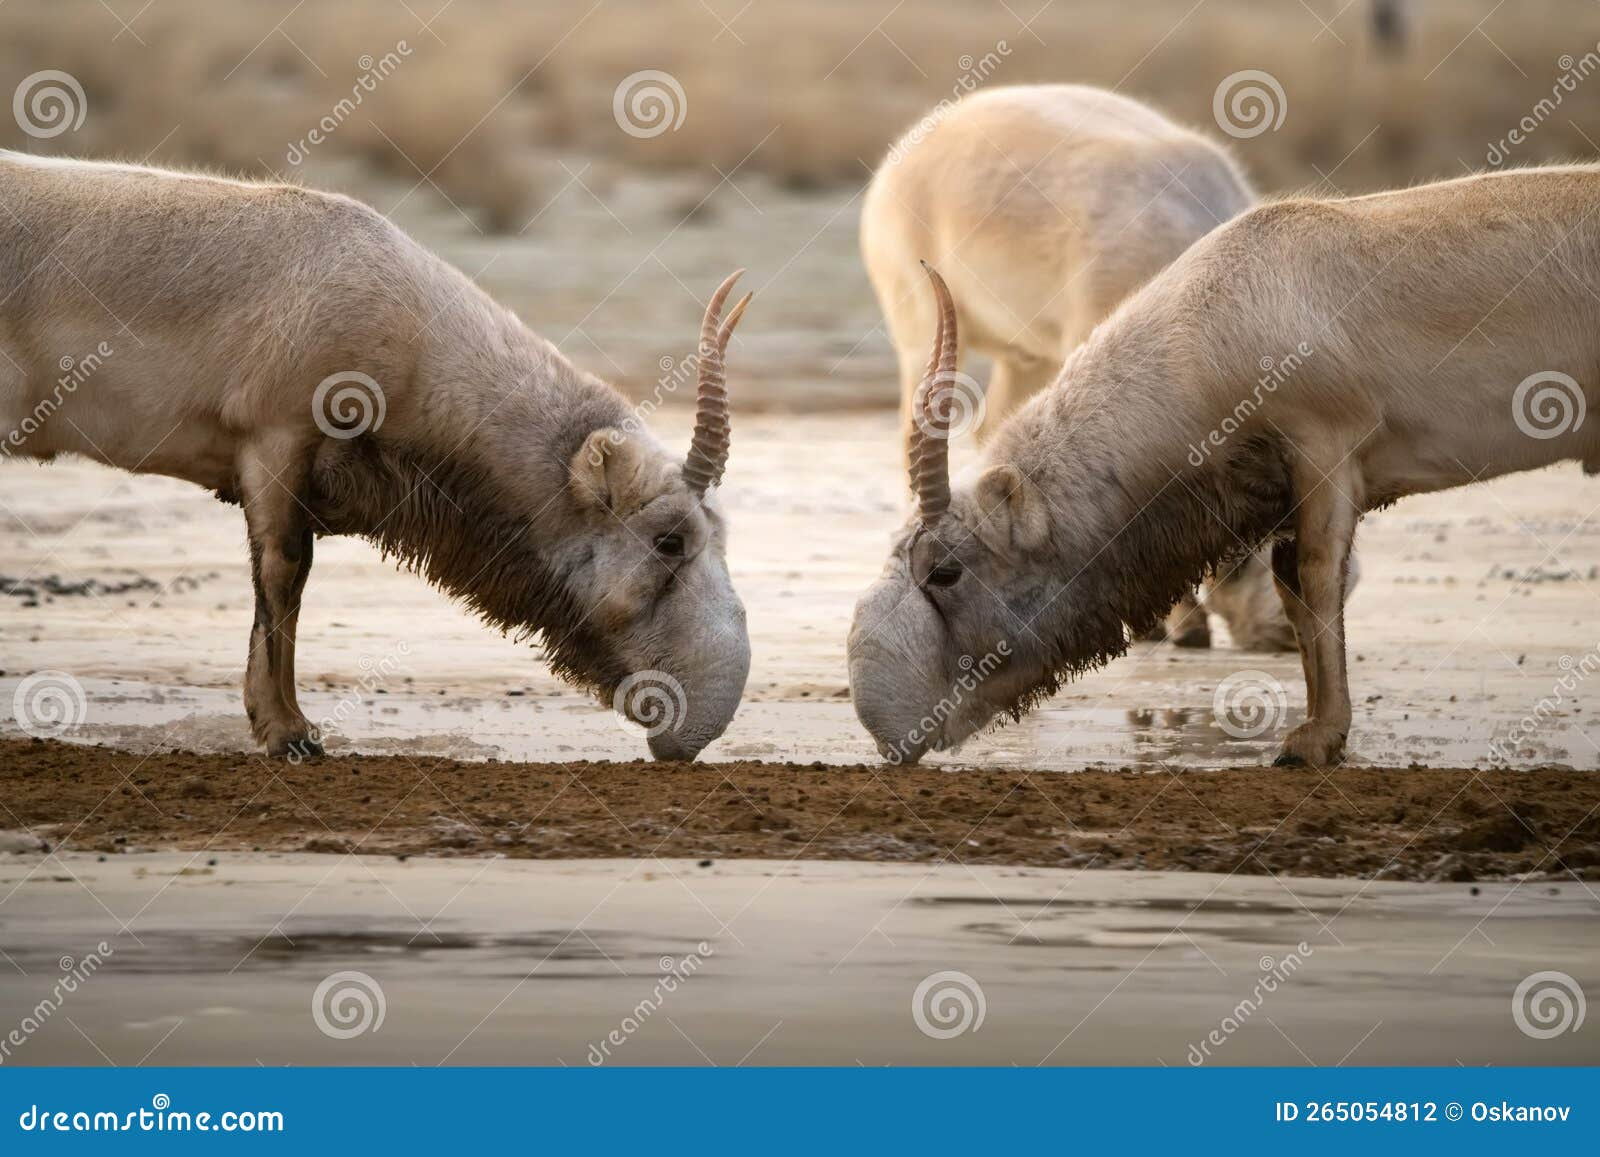saiga: (809, 162, 1600, 780), (2, 139, 759, 768)
